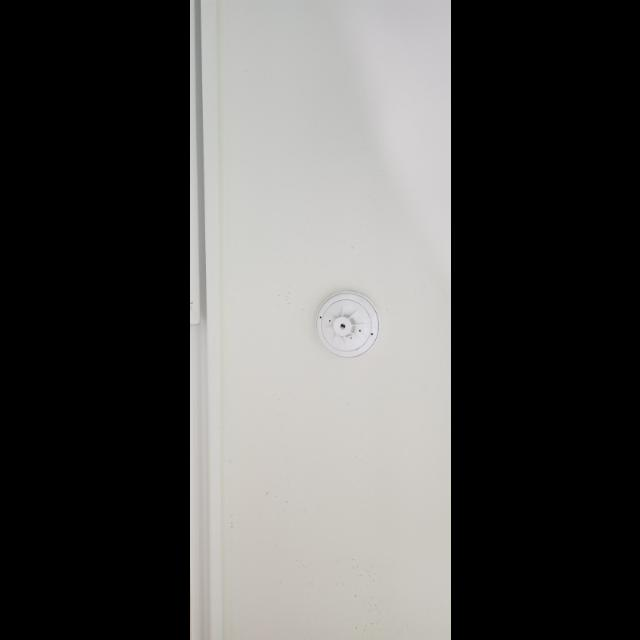Smoke-Detector: (316, 296, 376, 356)
